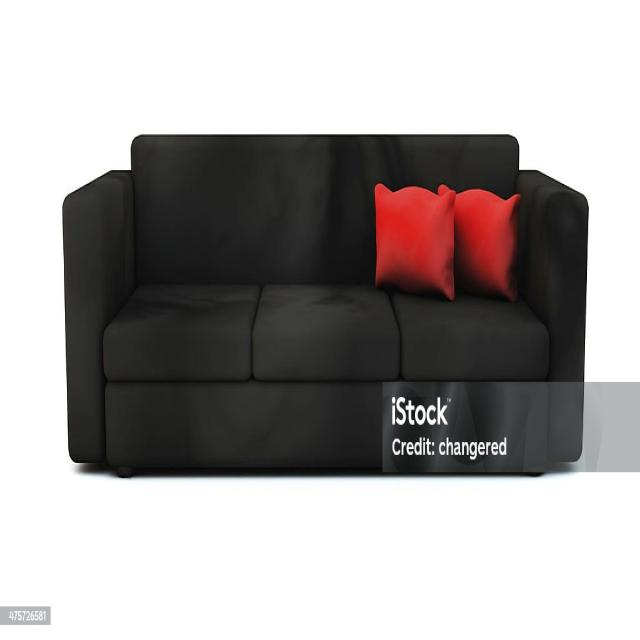back_cushion: (131, 135, 518, 285)
base: (106, 380, 548, 470)
left_arm: (516, 170, 588, 381), (549, 398, 581, 458)
legs: (117, 468, 133, 477), (526, 472, 542, 473)
right_arm: (63, 171, 134, 461)
seat_cushion: (104, 285, 548, 381)
stallion-sofa1: (63, 135, 588, 475)
